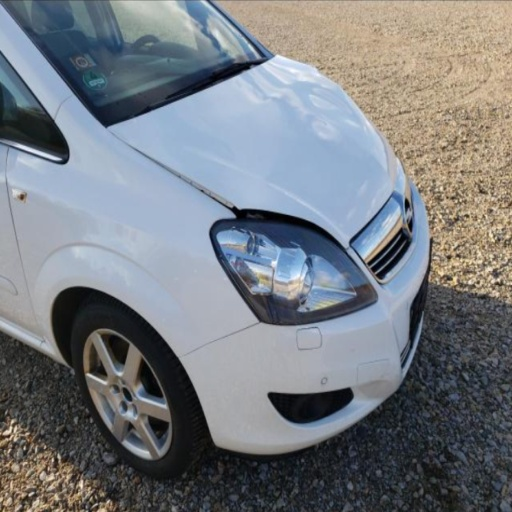dent: (243, 56, 372, 139)
